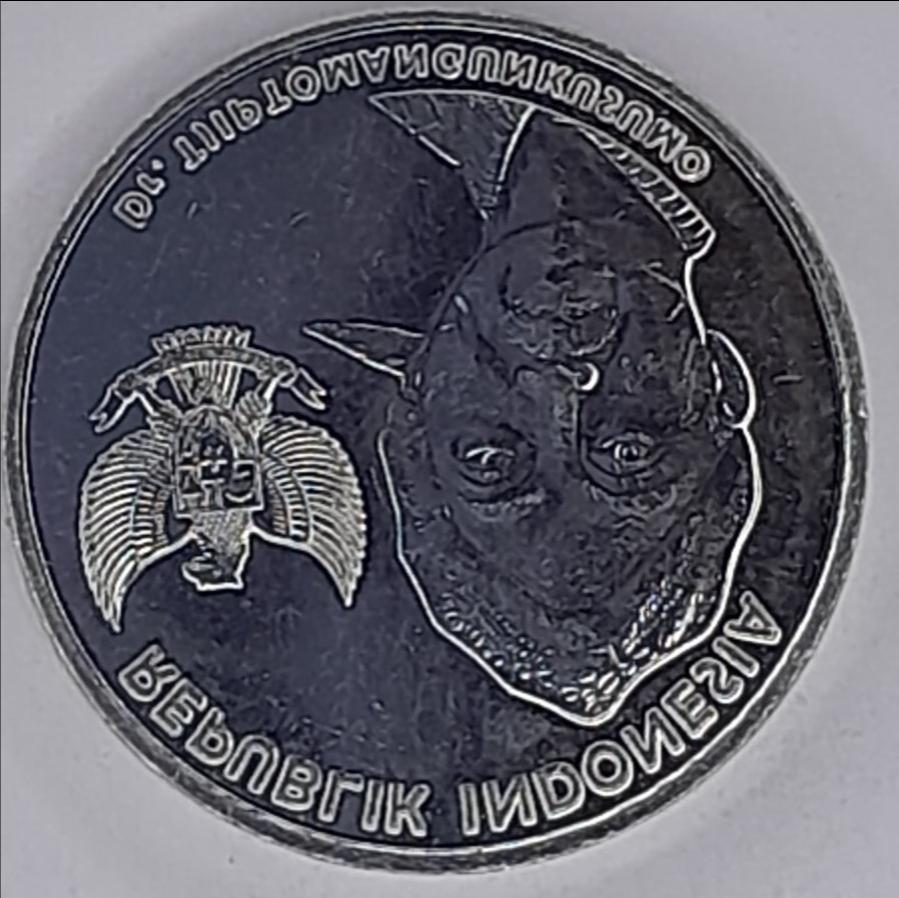coin_200_e2016: (0, 16, 899, 898)
